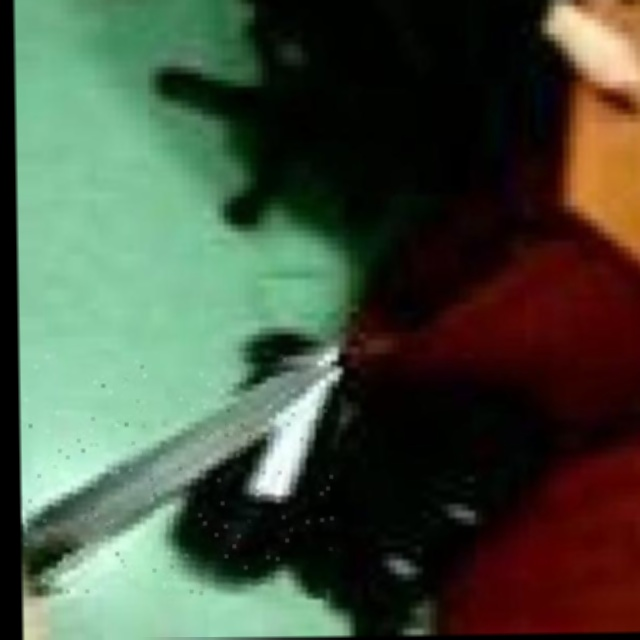Sharp-Object: (20, 347, 341, 599)
